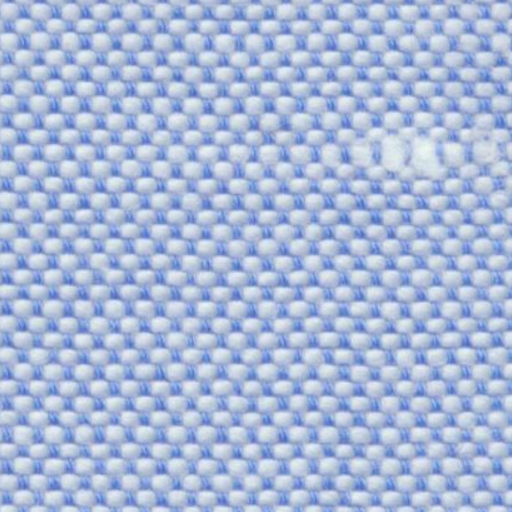DaiSha: (312, 132, 492, 180)
